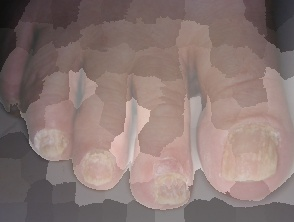Nail_psoriasis: (220, 112, 283, 185), (72, 144, 122, 192), (149, 160, 190, 207), (31, 125, 72, 165), (1, 95, 22, 112)
